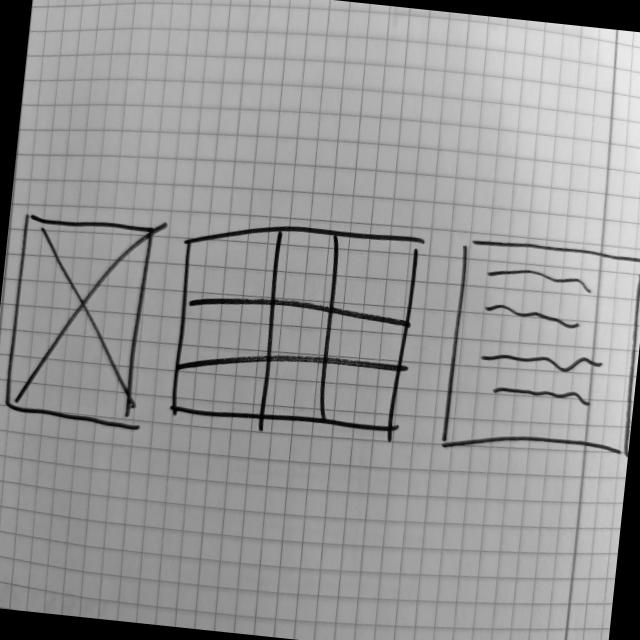image: (1, 208, 158, 430)
table: (164, 208, 430, 442)
textbox: (435, 232, 640, 470)
